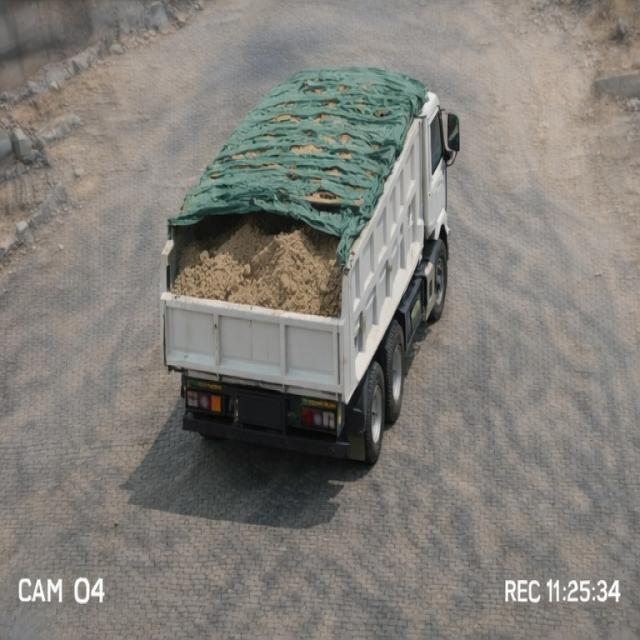trailer: (160, 68, 434, 313)
truck: (152, 38, 462, 478)
